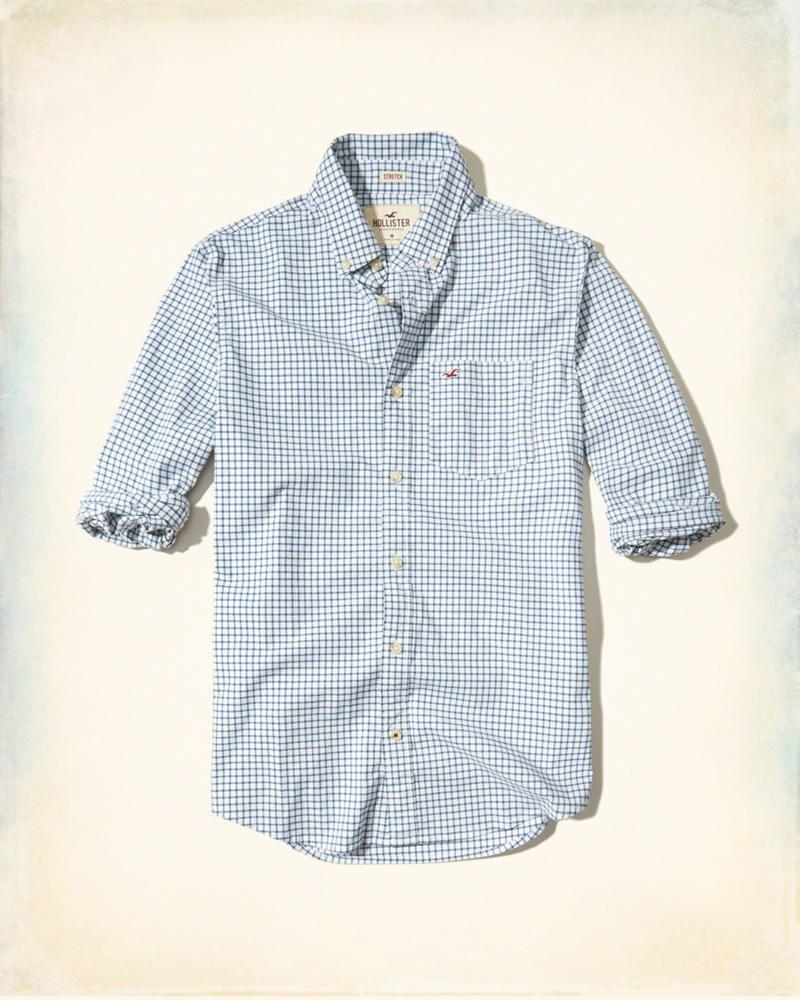teeshirt: (80, 127, 733, 877)
